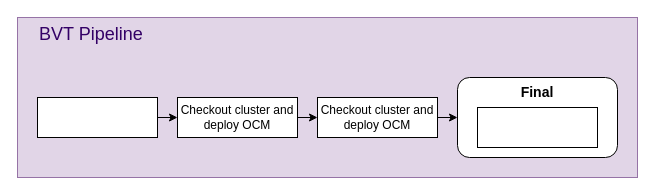
The diagram is 655 pixels wide and 195 high, and some of its shapes have lost their labels. Each missing label, with the centre of its shape:
Checkin both clusters: the point at 537,127
Create toolkit: the point at 97,117
